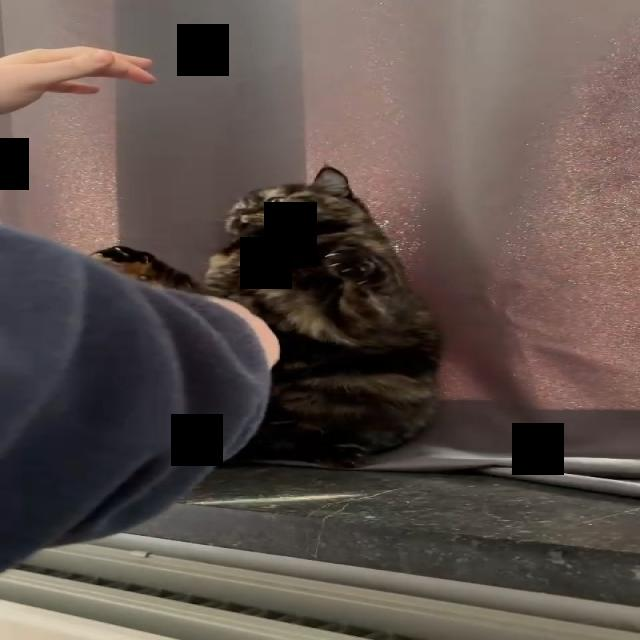authorized: (87, 164, 444, 468)
